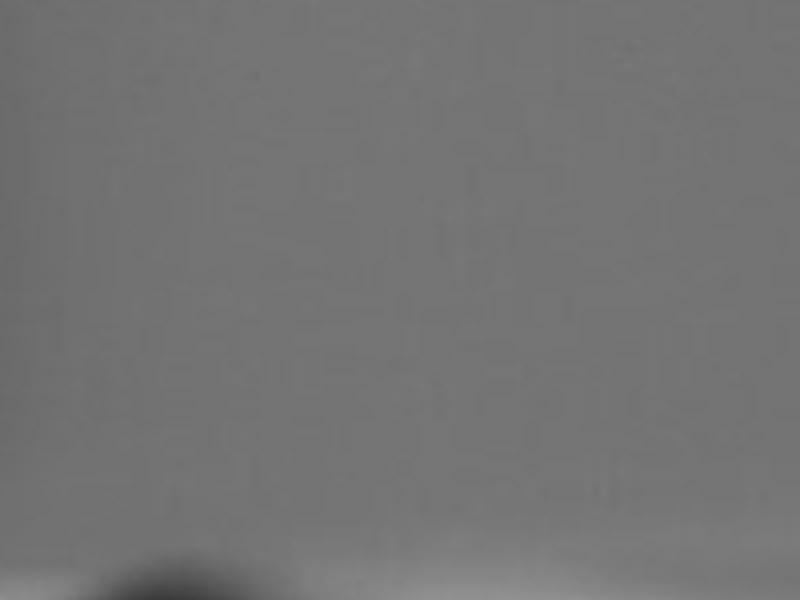defect: (108, 571, 244, 600)
